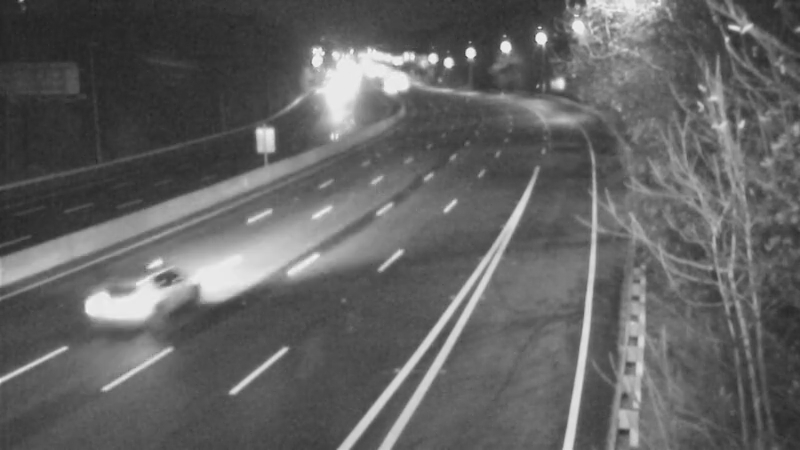vehicle: (66, 246, 176, 356)
